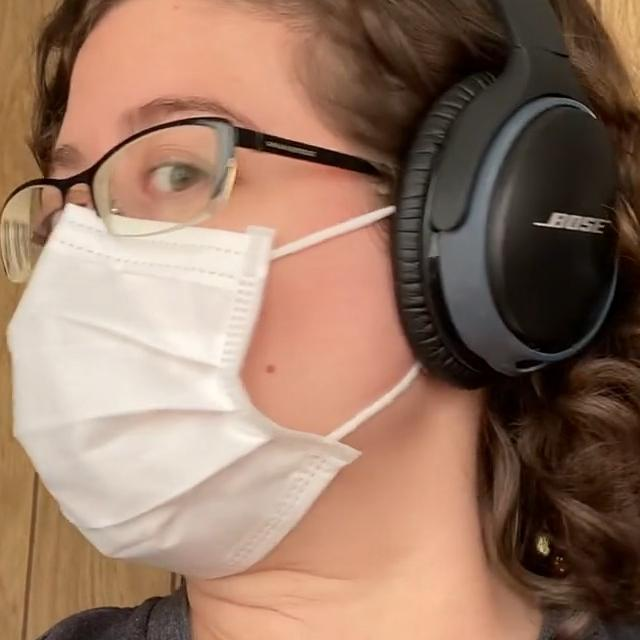Mask: (6, 198, 425, 579)
NO-Hardhat: (64, 0, 613, 85)
Person: (0, 0, 640, 640)
